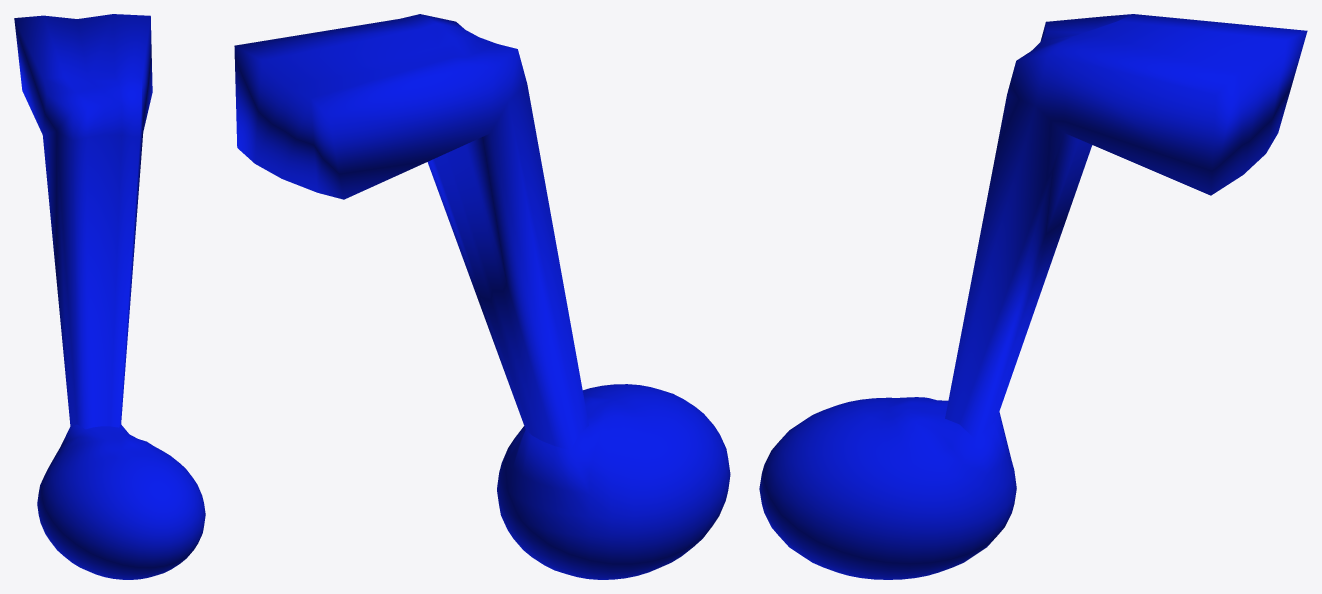
The model's file is simpleKey.gltf.
The picture shows the model from 3 angles, left to right: view 1: azimuth 30°, elevation 25°; view 2: azimuth 150°, elevation 25°; view 3: azimuth 270°, elevation 25°; orthographic projection. The views are drawn at different scales.
Parts seen in each view (by area): view 1: simpleKey; view 2: simpleKey; view 3: simpleKey.
Boxes of the visible parts, bbox=[...] form: simpleKey: bbox=[14, 14, 205, 579]; simpleKey: bbox=[234, 14, 730, 579]; simpleKey: bbox=[759, 14, 1307, 579].
Bounding box in the file's own units: 2.66 × 4.93 × 4.26.
